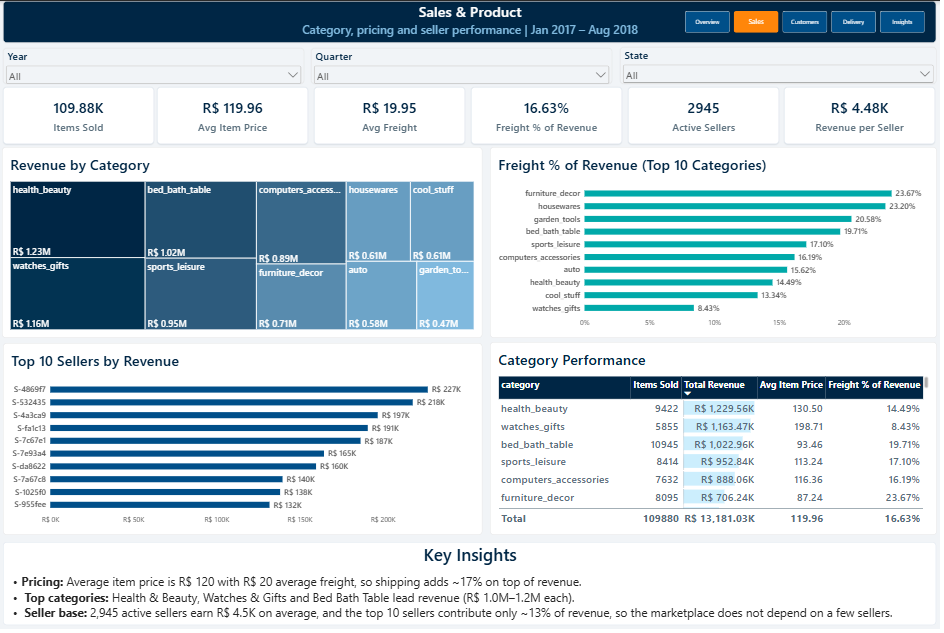

Layout of this report page (visuals, bound fields, positions):
{"tool":"powerbi","page":{"name":"Sales","canvas":[1920,1280],"ordinal":1},"visuals":[{"type":"textbox","title":"Sales & Product","box":[8.1,0,1895.7,84.9],"z":0},{"type":"slicer","fields":{"Values":["Dim_Date.Year"]},"box":[8.1,95,612.4,72.8],"z":1000},{"type":"slicer","fields":{"Values":["Dim_Date.Quarter"]},"box":[634.6,95,612,72.8],"z":2000},{"type":"slicer","fields":{"Values":["Fact_OrderItems.customer_state"]},"box":[1261.1,93,642.7,74.8],"z":3000},{"type":"card","fields":{"Values":["_Measures.Items Sold"]},"box":[8.3,175.4,307,115.6],"z":4000},{"type":"card","fields":{"Values":["_Measures.Avg Item Price"]},"box":[321.9,175.4,307.5,115.6],"z":5000},{"type":"card","fields":{"Values":["_Measures.Freight % of Revenue"]},"box":[959.5,175.4,307.5,115.6],"z":6000},{"type":"card","fields":{"Values":["_Measures.Active Sellers"]},"box":[1277.3,175.4,307.5,115.6],"z":7000},{"type":"card","fields":{"Values":["_Measures.Revenue per Seller"]},"box":[1595.1,175.4,307.5,115.6],"z":8000},{"type":"card","fields":{"Values":["_Measures.Avg Freight"]},"box":[639.7,175.4,307.5,115.6],"z":9000},{"type":"treemap","title":"Revenue by Category","fields":{"Group":["Fact_OrderItems.category"],"Values":["_Measures.Total Revenue"]},"box":[6.1,297.1,976.2,388],"z":10000},{"type":"clusteredBarChart","title":"Top 10 Sellers by Revenue","fields":{"Category":["Dim_Seller.Seller Short"],"Y":["_Measures.Total Revenue"]},"box":[8.3,695.4,974,390],"z":11000},{"type":"tableEx","title":"Category Performance","fields":{"Values":["Fact_OrderItems.category","_Measures.Items Sold","_Measures.Total Revenue","_Measures.Avg Item Price","_Measures.Freight % of Revenue"]},"box":[996.7,693.3,907.9,392.1],"z":12000},{"type":"textbox","title":"Key Insights","box":[8.3,1099.8,1896.3,169.2],"z":13000},{"type":"clusteredBarChart","title":"Freight % of Revenue (Top 10 Categories)","fields":{"Category":["Fact_OrderItems.category"],"Y":["_Measures.Freight % of Revenue"]},"box":[996.7,297.1,907.9,387.9],"z":14000},{"type":"pageNavigator","box":[1394,21,490,44],"z":14001}]}

Visuals, with their boxes in screenshot pixels (x1, y1, x2, y2), scaled from the page's 1920x1280 canvas onto the 944x633 screenshot:
"Sales & Product" textbox: select_region(4, 0, 936, 42)
slicer - Dim_Date.Year: select_region(4, 47, 305, 83)
slicer - Dim_Date.Quarter: select_region(312, 47, 613, 83)
slicer - Fact_OrderItems.customer_state: select_region(620, 46, 936, 83)
card - _Measures.Items Sold: select_region(4, 87, 155, 144)
card - _Measures.Avg Item Price: select_region(158, 87, 309, 144)
card - _Measures.Freight % of Revenue: select_region(472, 87, 623, 144)
card - _Measures.Active Sellers: select_region(628, 87, 779, 144)
card - _Measures.Revenue per Seller: select_region(784, 87, 935, 144)
card - _Measures.Avg Freight: select_region(315, 87, 466, 144)
"Revenue by Category" treemap: select_region(3, 147, 483, 339)
"Top 10 Sellers by Revenue" clusteredBarChart: select_region(4, 344, 483, 537)
"Category Performance" tableEx: select_region(490, 343, 936, 537)
"Key Insights" textbox: select_region(4, 544, 936, 628)
"Freight % of Revenue (Top 10 Categories)" clusteredBarChart: select_region(490, 147, 936, 339)
pageNavigator: select_region(685, 10, 926, 32)
